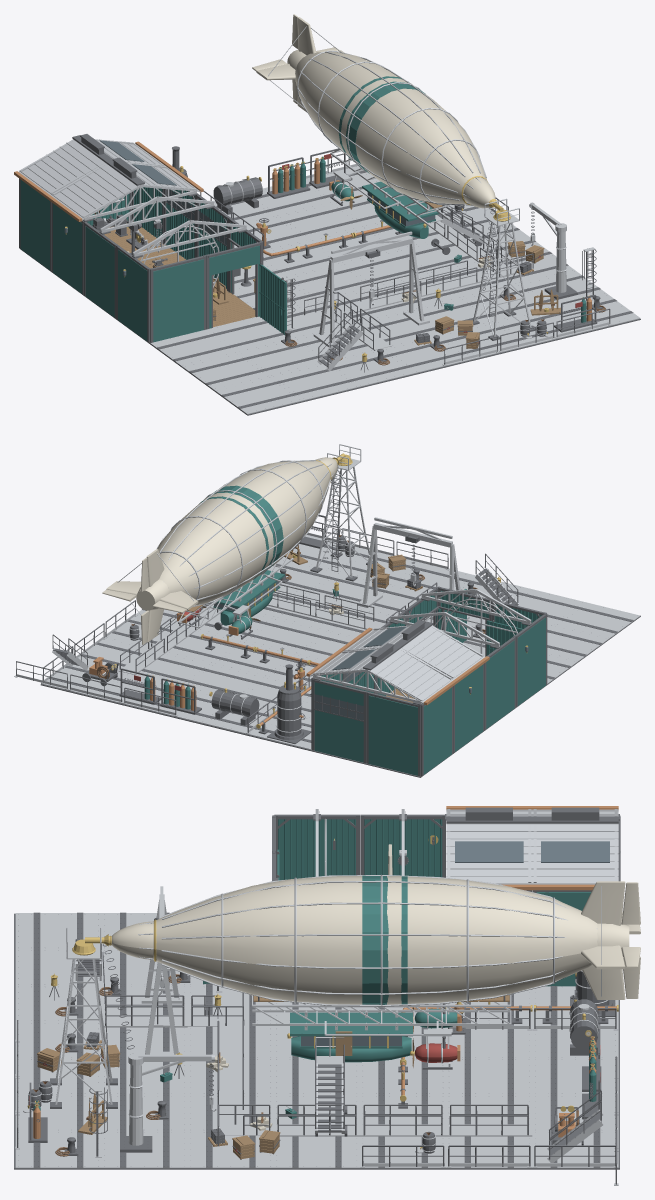
File: airship-dock.glb
3 views of the same model, one above another, from view 1: azimuth 30°, elevation 25°; view 2: azimuth 150°, elevation 25°; view 3: azimuth 270°, elevation 25° (orthographic). The views are drawn at different scales.
Visible parts, largest first — view 1: 065-airship-envelope/0, 055-shed-wall-panel/1, 084-dock-gantry/0, 062-shed-roof-bay/4, 072-mooring-mast/0, 061-shed-roof-bay/4, 065-airship-envelope/2, 051-shed-wall-panel/1, 052-shed-wall-panel/1, 049-shed-wall-panel/1, 050-shed-wall-panel/1, 069-airship-gondola/0 (+58 smaller); view 2: 065-airship-envelope/0, 053-shed-wall-panel/1, 061-shed-roof-bay/4, 062-shed-roof-bay/4, 084-dock-gantry/0, 054-shed-wall-window/1, 051-shed-wall-panel/1, 052-shed-wall-panel/1, 072-mooring-mast/0, 049-shed-wall-panel/1, 050-shed-wall-panel/1, 065-airship-envelope/2 (+52 smaller); view 3: 065-airship-envelope/0, 065-airship-envelope/2, 052-shed-wall-panel/1, 051-shed-wall-panel/1, 065-airship-envelope/3, 069-airship-gondola/0, 061-shed-roof-bay/5, 062-shed-roof-bay/5, 068-airship-keel-truss/0, 029-dock-deck-plate/1, 072-mooring-mast/0, 006-dock-deck-plate/1 (+68 smaller).
Boxes of the visible parts, bbox=[...] form: 065-airship-envelope/0: bbox=[295, 51, 486, 204]; 055-shed-wall-panel/1: bbox=[153, 259, 203, 342]; 084-dock-gantry/0: bbox=[313, 231, 429, 347]; 062-shed-roof-bay/4: bbox=[51, 163, 141, 220]; 072-mooring-mast/0: bbox=[473, 198, 531, 336]; 061-shed-roof-bay/4: bbox=[19, 139, 105, 195]; 065-airship-envelope/2: bbox=[297, 51, 486, 205]; 051-shed-wall-panel/1: bbox=[85, 226, 114, 317]; 052-shed-wall-panel/1: bbox=[118, 250, 147, 341]; 049-shed-wall-panel/1: bbox=[20, 180, 49, 270]; 050-shed-wall-panel/1: bbox=[53, 203, 82, 293]; 069-airship-gondola/0: bbox=[362, 181, 439, 238]; 065-airship-envelope/0: bbox=[157, 460, 330, 605]; 053-shed-wall-panel/1: bbox=[368, 695, 417, 775]; 061-shed-roof-bay/4: bbox=[366, 648, 453, 703]; 062-shed-roof-bay/4: bbox=[401, 625, 484, 679]; 084-dock-gantry/0: bbox=[357, 517, 469, 619]; 054-shed-wall-window/1: bbox=[314, 710, 363, 762]; 051-shed-wall-panel/1: bbox=[486, 640, 514, 728]; 052-shed-wall-panel/1: bbox=[517, 617, 545, 705]; 072-mooring-mast/0: bbox=[315, 444, 372, 577]; 049-shed-wall-panel/1: bbox=[423, 687, 451, 774]; 050-shed-wall-panel/1: bbox=[455, 664, 483, 751]; 065-airship-envelope/2: bbox=[156, 460, 330, 606]; 065-airship-envelope/0: bbox=[153, 876, 597, 1004]; 065-airship-envelope/2: bbox=[161, 875, 597, 1006]; 052-shed-wall-panel/1: bbox=[278, 819, 355, 880]; 051-shed-wall-panel/1: bbox=[364, 819, 442, 877]; 065-airship-envelope/3: bbox=[362, 875, 407, 1004]; 069-airship-gondola/0: bbox=[290, 1012, 412, 1062]; 061-shed-roof-bay/5: bbox=[532, 823, 618, 884]; 062-shed-roof-bay/5: bbox=[446, 823, 532, 884]; 068-airship-keel-truss/0: bbox=[252, 994, 511, 1035]; 029-dock-deck-plate/1: bbox=[446, 1058, 532, 1094]; 072-mooring-mast/0: bbox=[55, 927, 112, 1104]; 006-dock-deck-plate/1: bbox=[15, 913, 101, 949].
Size of the model in its own units: 30.43 by 11.07 by 29.11.
